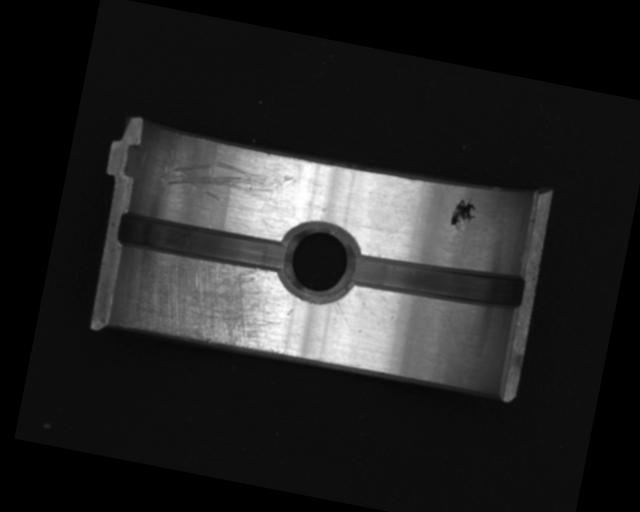blot: (448, 195, 480, 233)
gap: (345, 241, 531, 318), (114, 208, 291, 276)
hole: (273, 221, 362, 305)
nick: (163, 149, 297, 215), (328, 297, 360, 334)
scratch: (118, 244, 293, 357)
